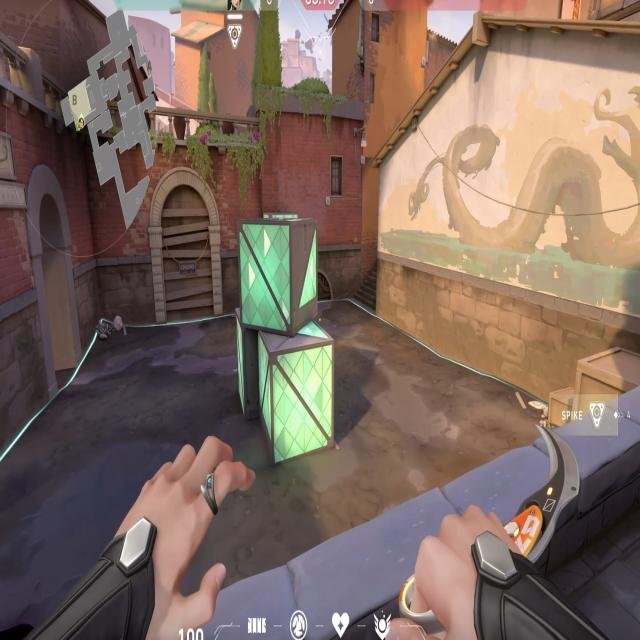B_Boathouse: (20, 153, 94, 393)
B_Site_Box: (221, 193, 341, 468)
